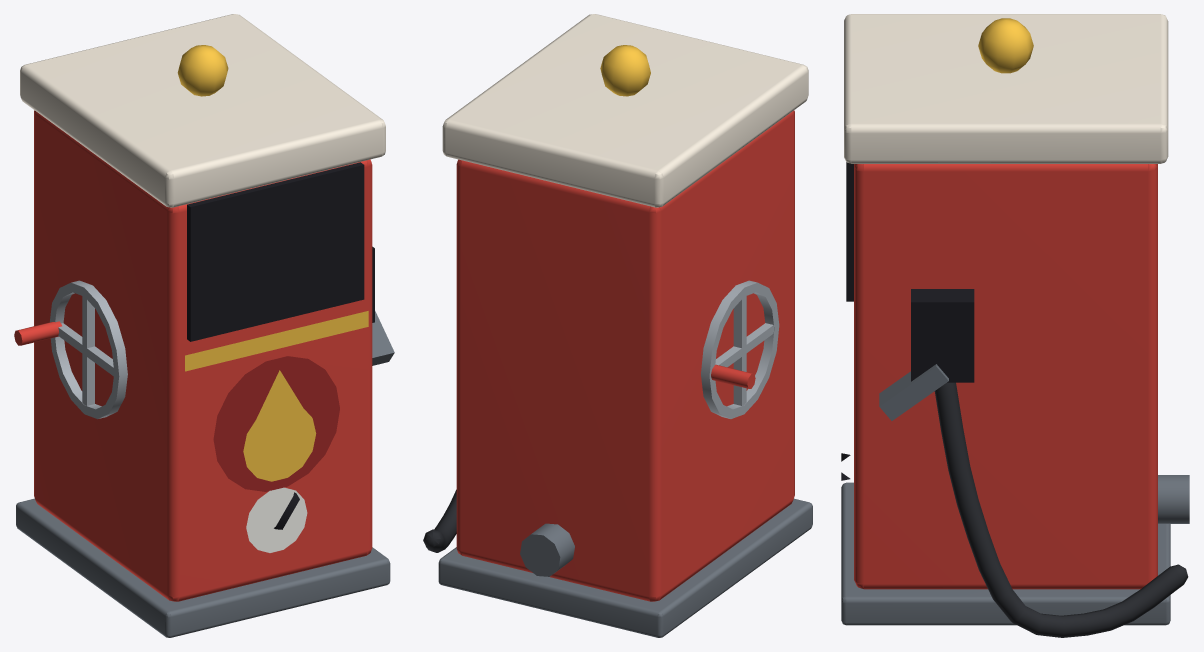
File: Surtidor.fbx
3 renders of one model, left to right at view 1: azimuth 30°, elevation 25°; view 2: azimuth 150°, elevation 25°; view 3: azimuth 270°, elevation 25°, orthographic. The views are drawn at different scales.
Parts seen in each view (by area): view 1: Surtidor; view 2: Surtidor; view 3: Surtidor.
Boxes of the visible parts, bbox=[...] form: Surtidor: bbox=[14, 14, 394, 637]; Surtidor: bbox=[423, 14, 812, 637]; Surtidor: bbox=[841, 14, 1189, 637].
Bounding box in the file's own units: 3.11 × 4.77 × 2.75.
Materials: 1 (1 with a texture image).
